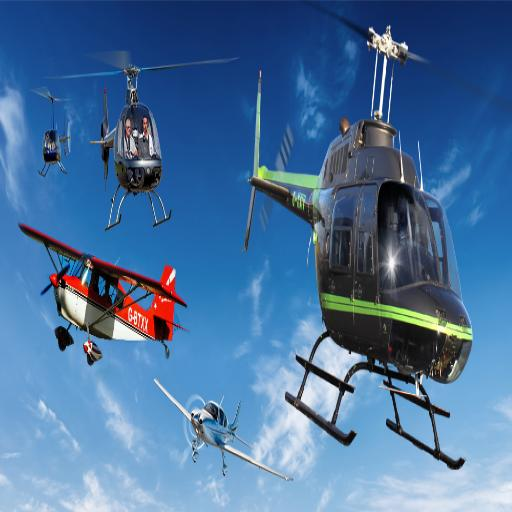helicopter: (243, 2, 480, 481), (66, 61, 238, 233), (31, 86, 82, 179)
